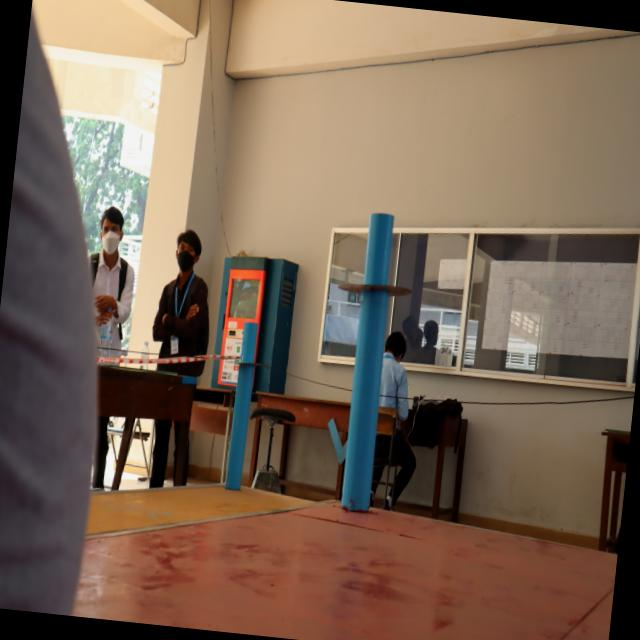pole: (332, 200, 419, 330), (217, 312, 279, 398)
